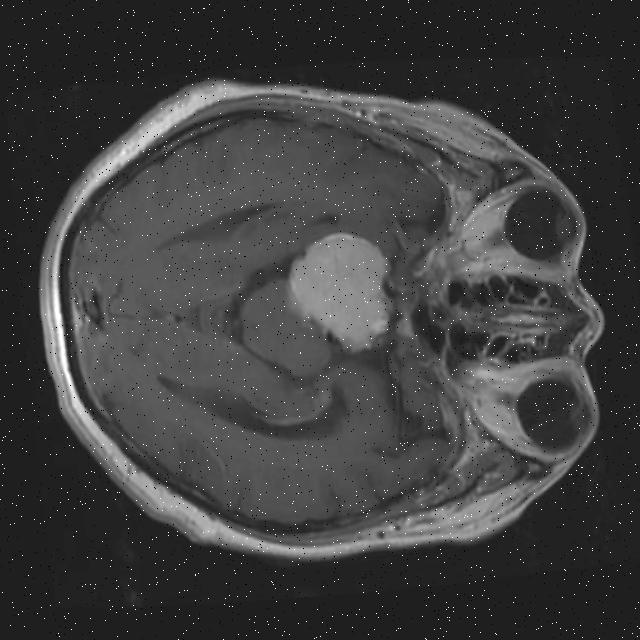Meningioma: (278, 229, 401, 358)
